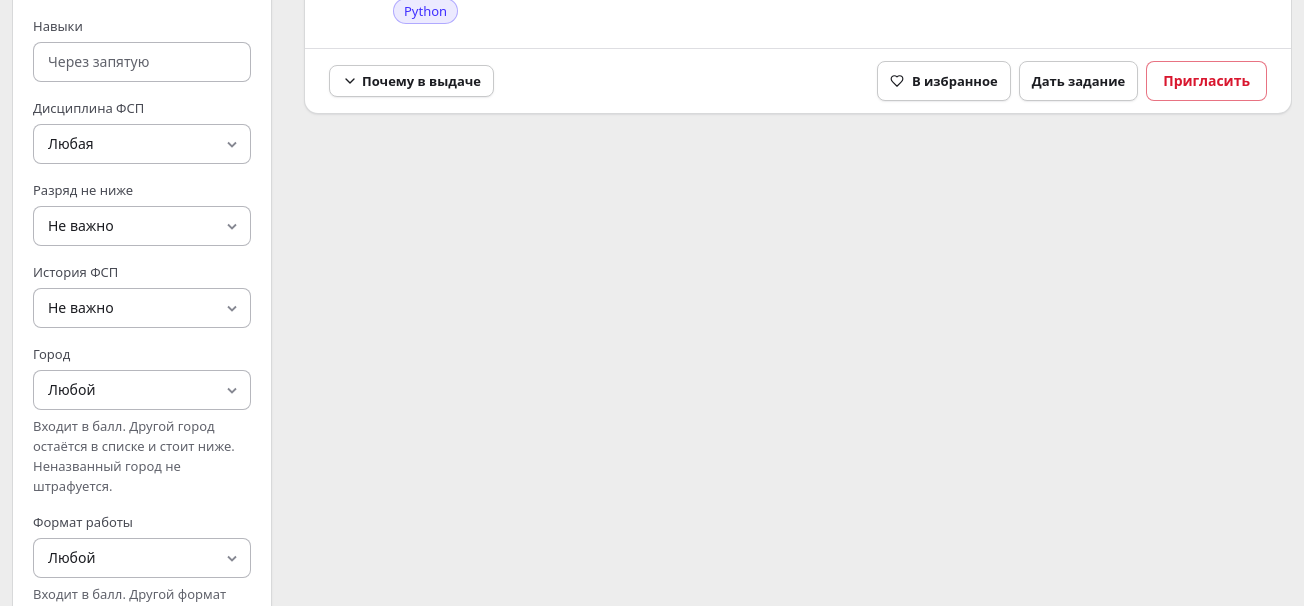
поиск работодателя › показывает, что список ещё прежний, пока фильтр не применён
The width and height of the screenshot is (1304, 606).
(page scrolled)
Select "Есть" in the dropdown labelled "История ФСП" at point(142, 308), box 33,288 -> 251,328
(page scrolled)
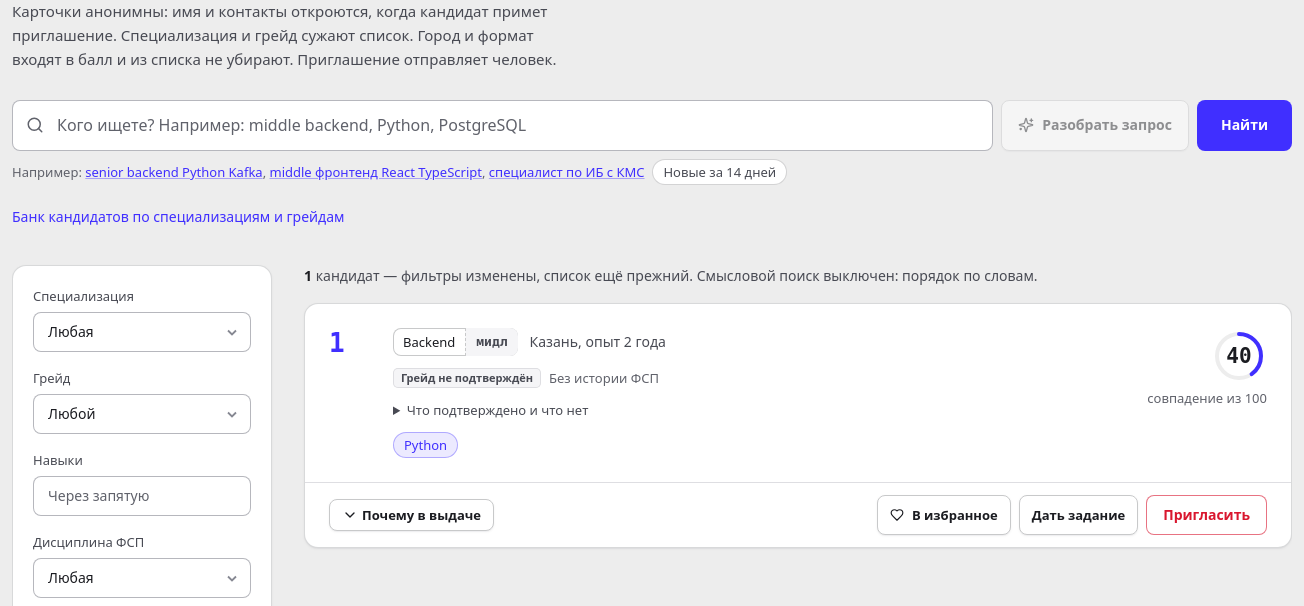
expect the text "фильтры изменены, список ещё прежний" is shown: met, box 380,266 -> 689,285
